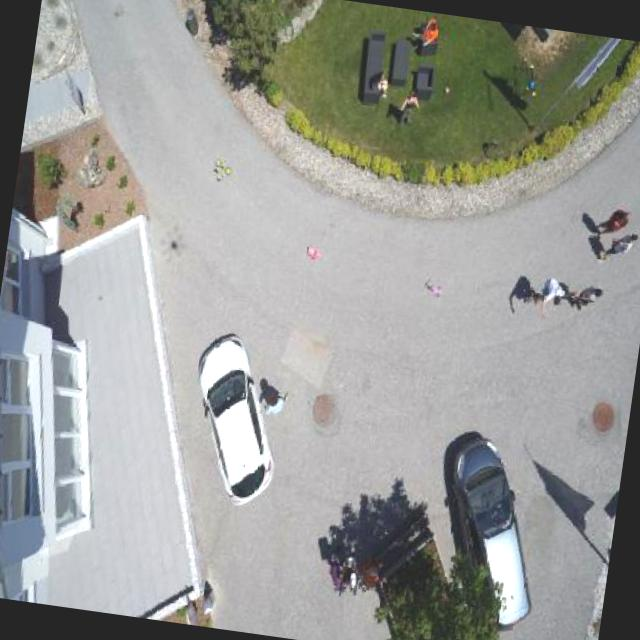Person: (533, 272, 576, 320), (596, 224, 640, 270), (589, 202, 639, 240), (262, 380, 298, 425), (573, 278, 614, 316), (416, 11, 450, 52), (398, 87, 429, 127), (372, 68, 393, 98)
